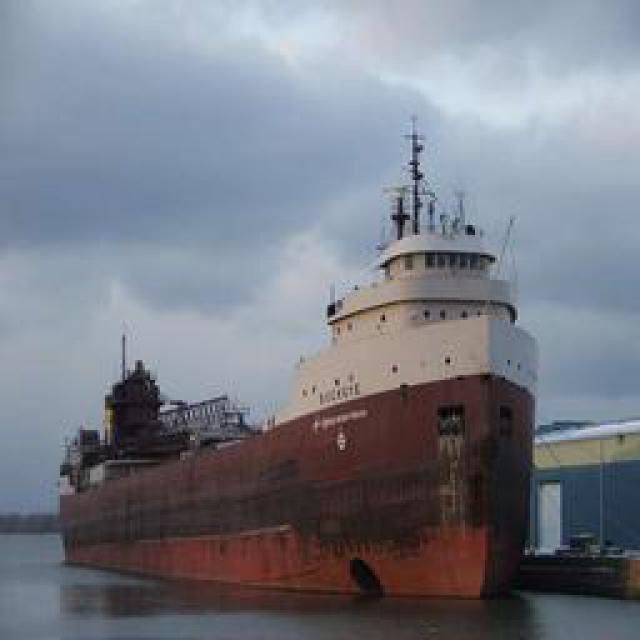Ship: (60, 110, 540, 598)
